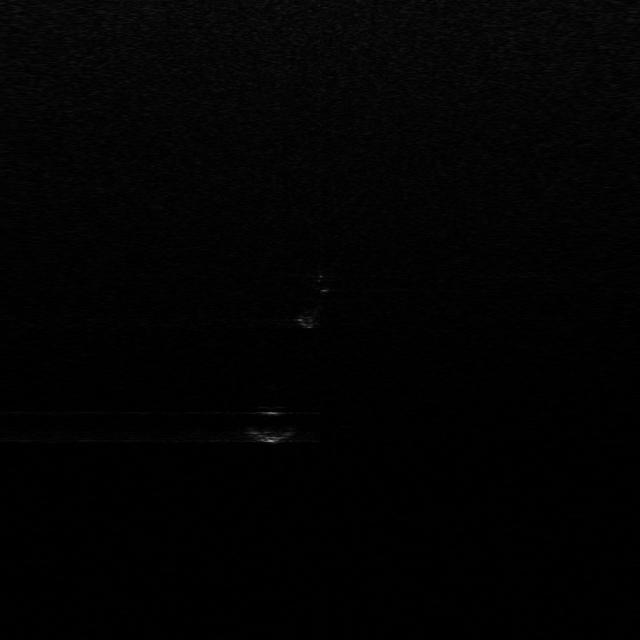ball: (242, 404, 299, 445)
tyre: (298, 264, 333, 330)
